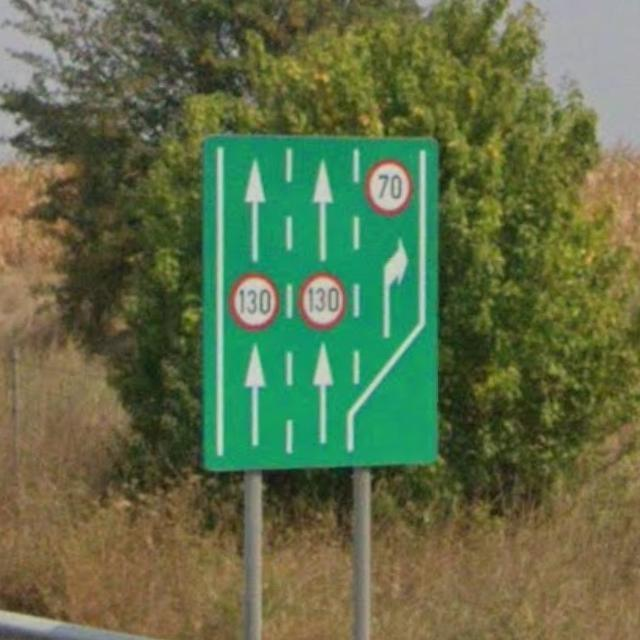forb_speed_over_70: (363, 160, 412, 218)
